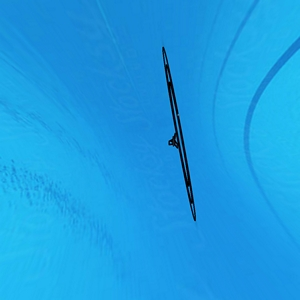circle: (152, 44, 204, 228)
submarine: (169, 137, 177, 146)
